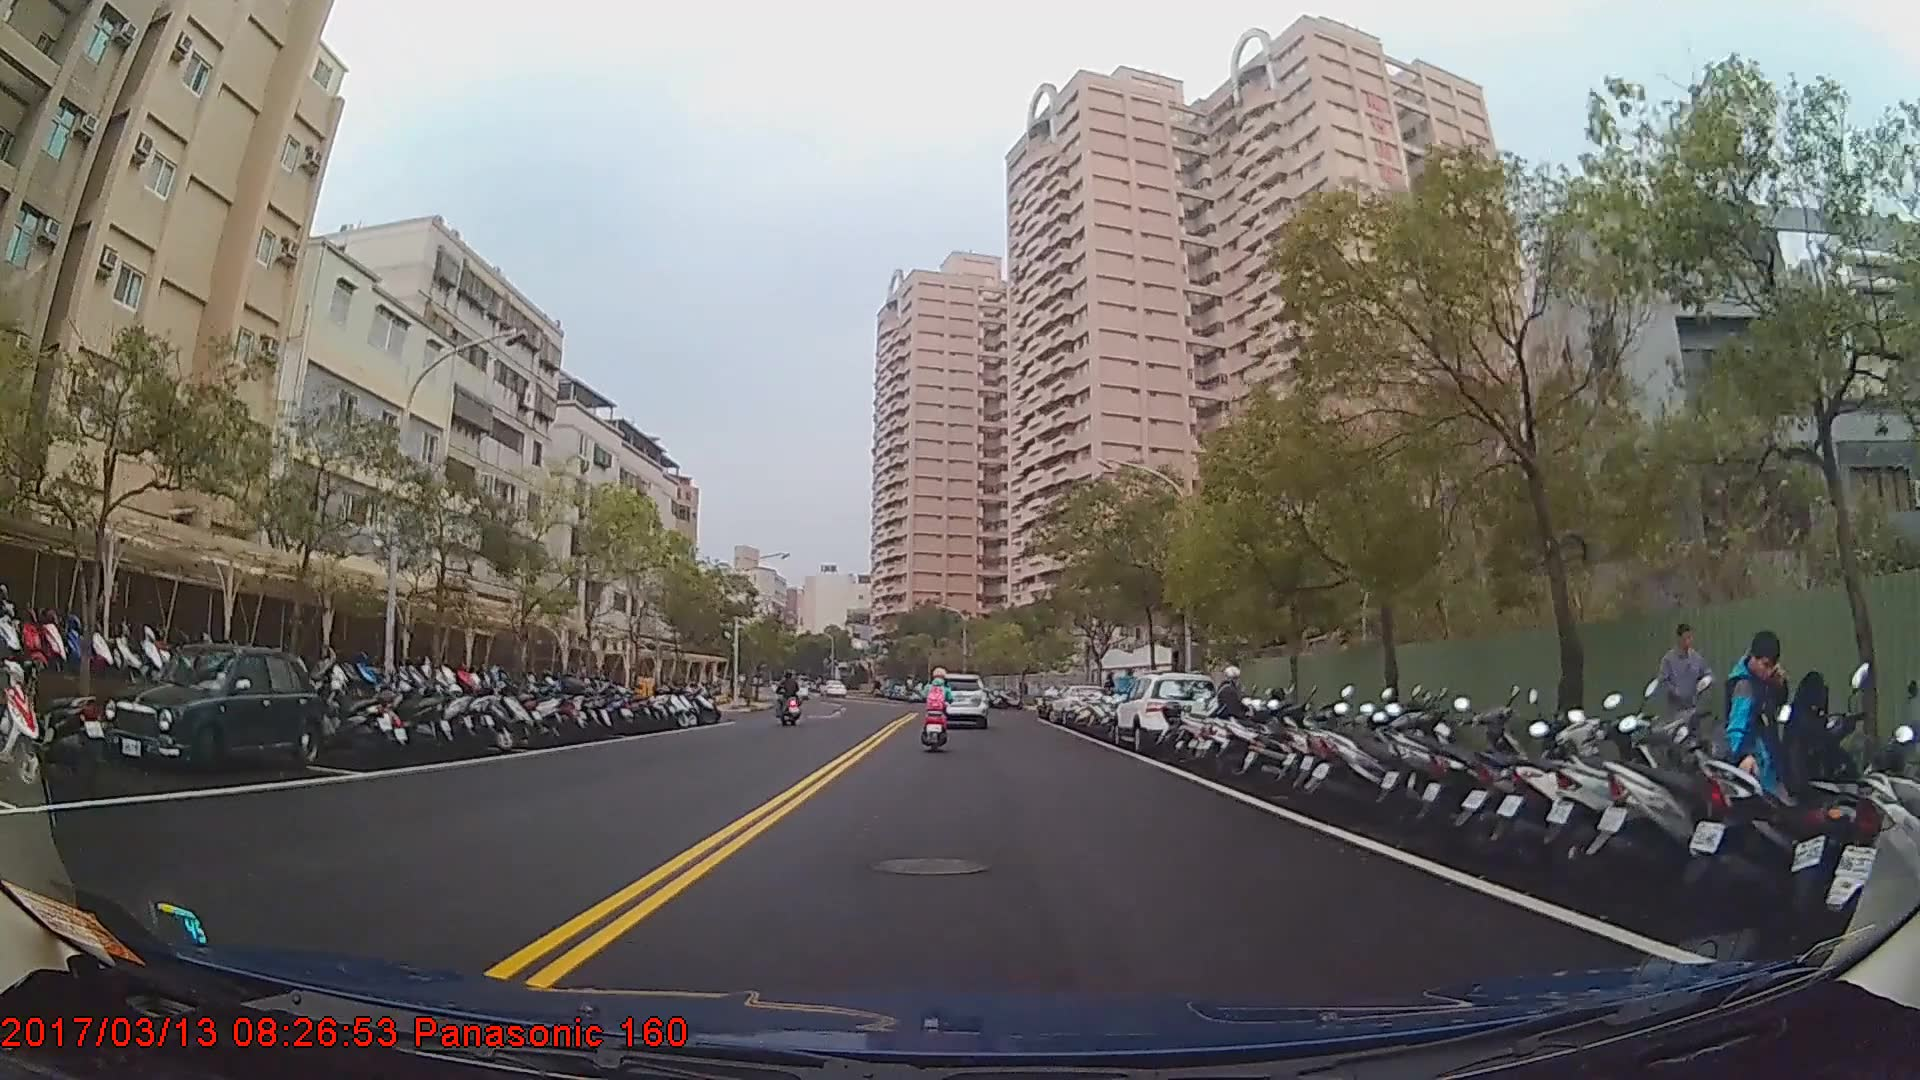pedestrian: (1719, 633, 1810, 893), (1656, 620, 1720, 780)
rider: (920, 669, 956, 752), (778, 670, 803, 732)
vehicle: (101, 643, 320, 782), (1112, 670, 1220, 756), (928, 677, 986, 731)
